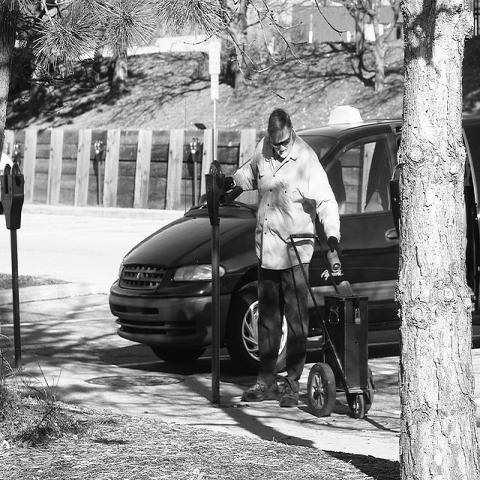car: (299, 116, 479, 354), (114, 190, 265, 375)
